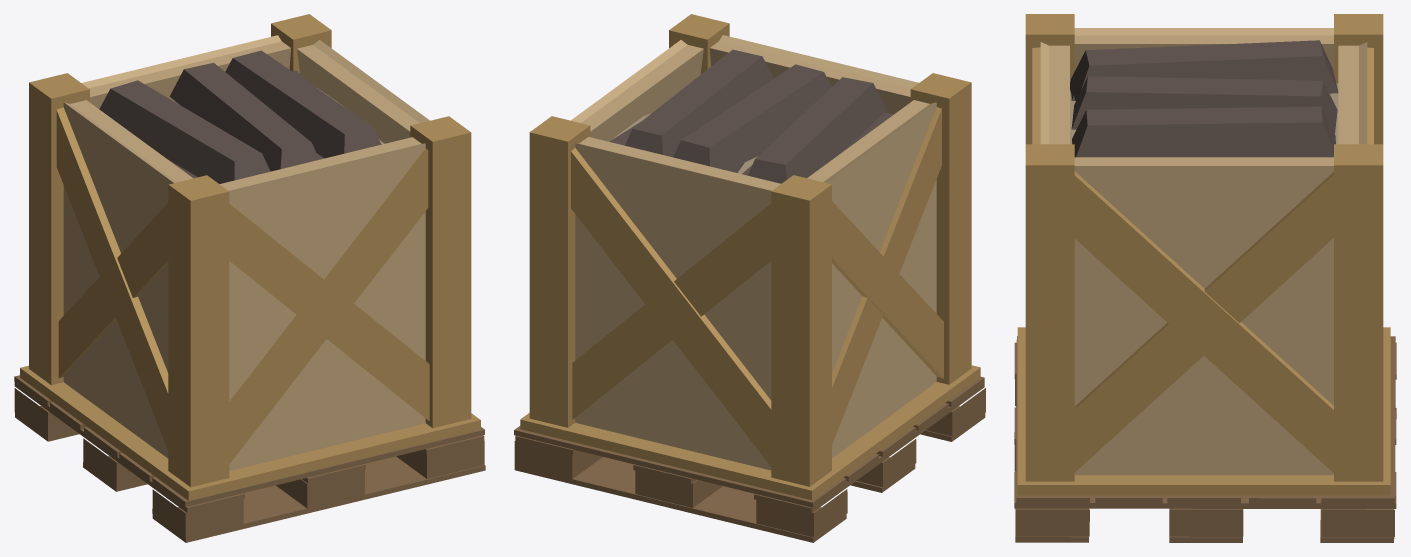
The model's file is ScrapCrate.glb.
3 renders of one model, left to right at view 1: azimuth 30°, elevation 25°; view 2: azimuth 150°, elevation 25°; view 3: azimuth 270°, elevation 25°, orthographic. The views are drawn at different scales.
Visible parts, largest first — view 1: singleOpenCrateMetal; view 2: singleOpenCrateMetal; view 3: singleOpenCrateMetal.
Part boxes in pixels (box(x1,y1,x2,y2)): singleOpenCrateMetal: box(14, 14, 485, 542); singleOpenCrateMetal: box(514, 14, 985, 542); singleOpenCrateMetal: box(1014, 14, 1396, 542).
Size of the model in its own units: 0.9282 by 1 by 0.9267.
Materials: 1 (1 with a texture image).
